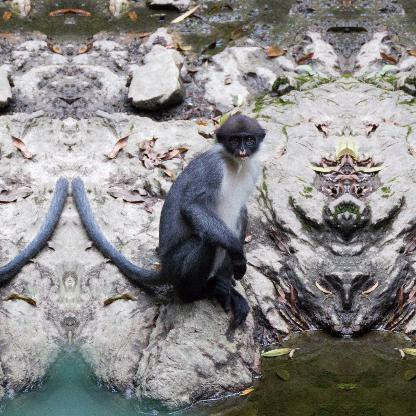Monkey: (77, 118, 266, 326), (0, 118, 61, 326)
